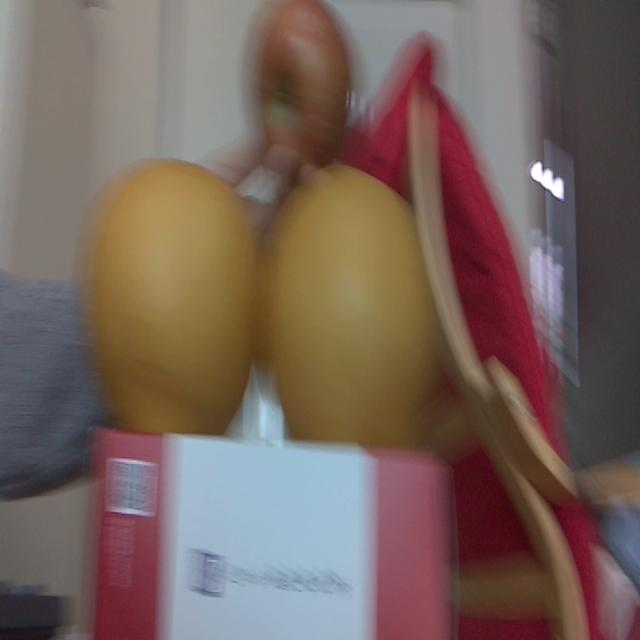apple: (256, 0, 348, 160)
pear: (261, 166, 437, 437), (87, 161, 255, 426)
